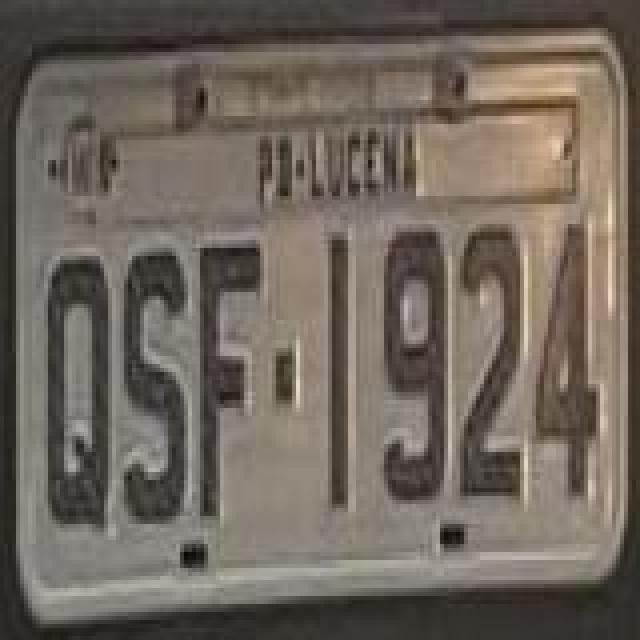1: (326, 226, 354, 518)
2: (458, 224, 526, 504)
4: (534, 220, 602, 500)
9: (384, 226, 448, 510)
F: (198, 240, 266, 528)
Q: (44, 250, 116, 534)
S: (122, 246, 190, 530)
